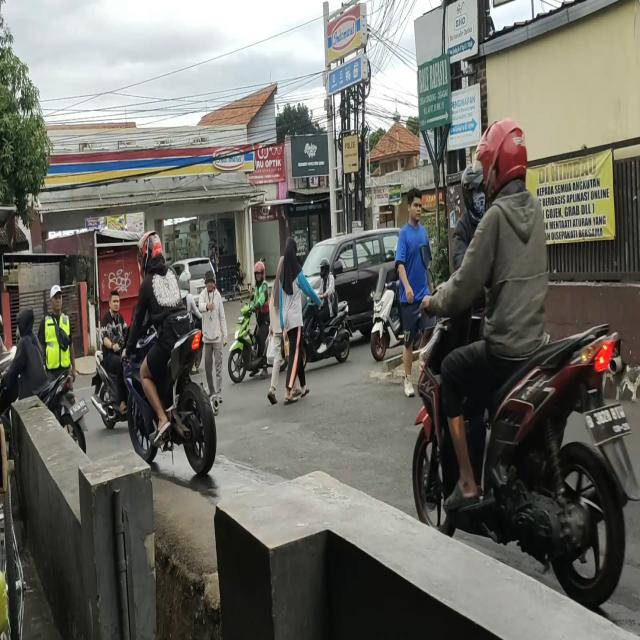helmet: (480, 129, 526, 182), (461, 165, 487, 210), (138, 234, 164, 268), (253, 263, 266, 284), (319, 260, 330, 276)
no-helmet: (16, 310, 36, 338), (108, 292, 122, 316)
